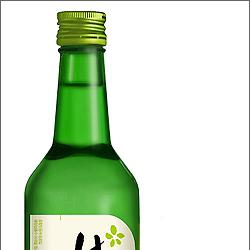soju: (23, 9, 143, 250)
